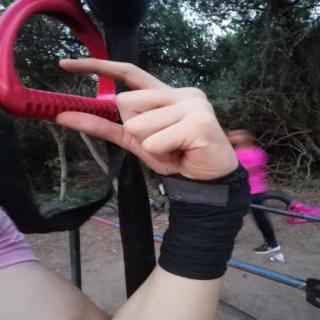DELL: (44, 48, 246, 188)
